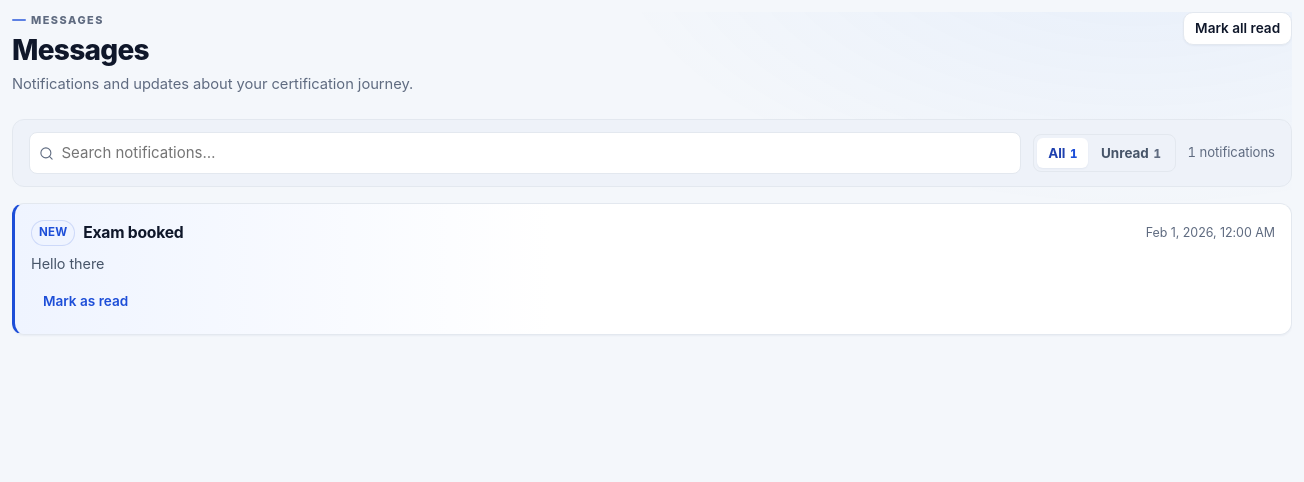
it: Messages (premium inbox) › explains an over-filtered inbox and offers a way back
The width and height of the screenshot is (1304, 482).
Type "nothing matches this" into the search field labelled "Search notifications" at (525, 153), box [29,132,1021,174]
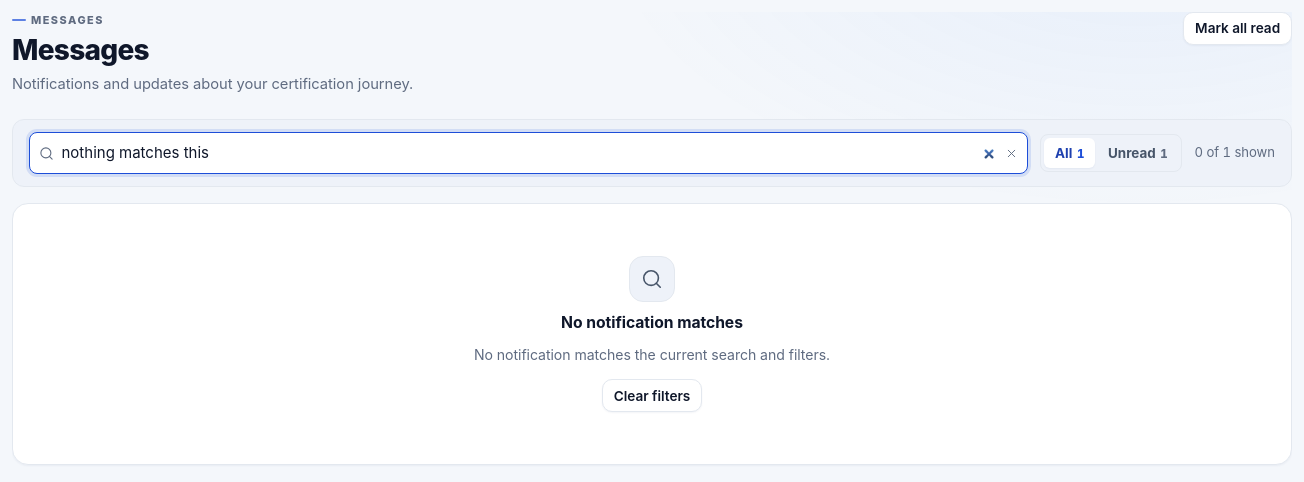
Result: the text "No notification matches" is shown at [561,311,743,335]
Click the button "Clear filters" at (652, 396), box [602,379,702,412]
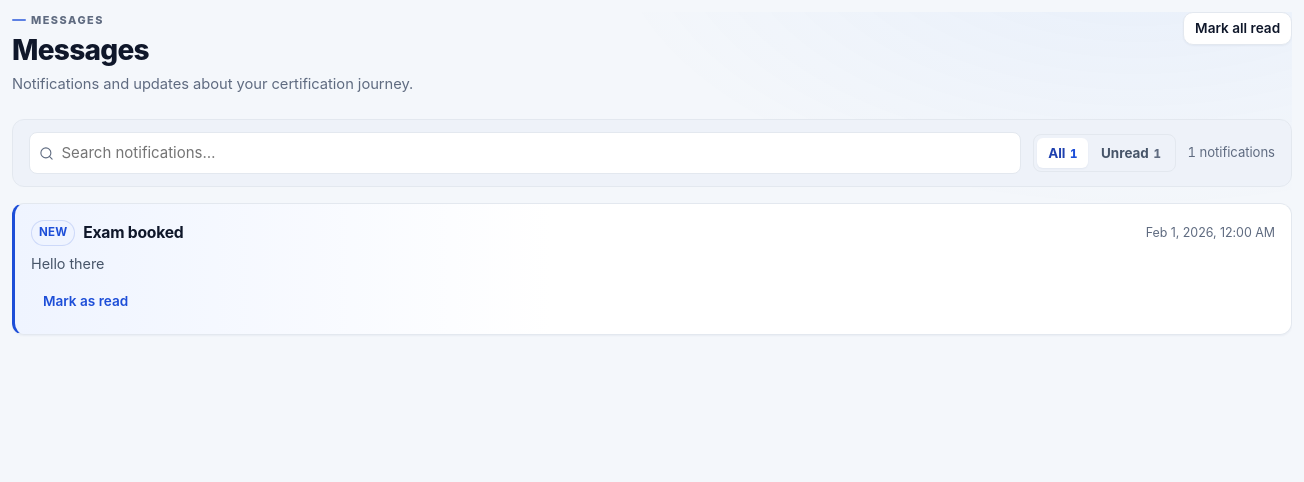
Result: the heading "Exam booked" is shown at [83,223,183,243]
